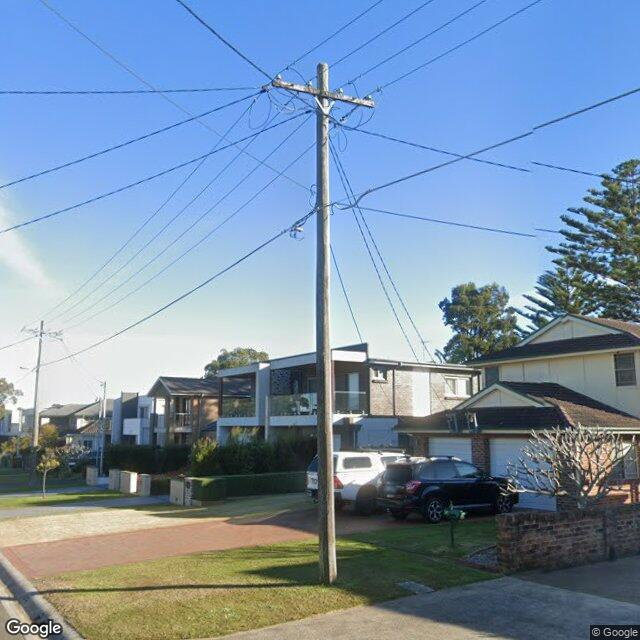crossarm: (268, 77, 375, 109), (22, 328, 63, 342)
steel-pole: (100, 380, 106, 476)
timber-pole: (316, 60, 336, 586), (32, 320, 44, 446)
